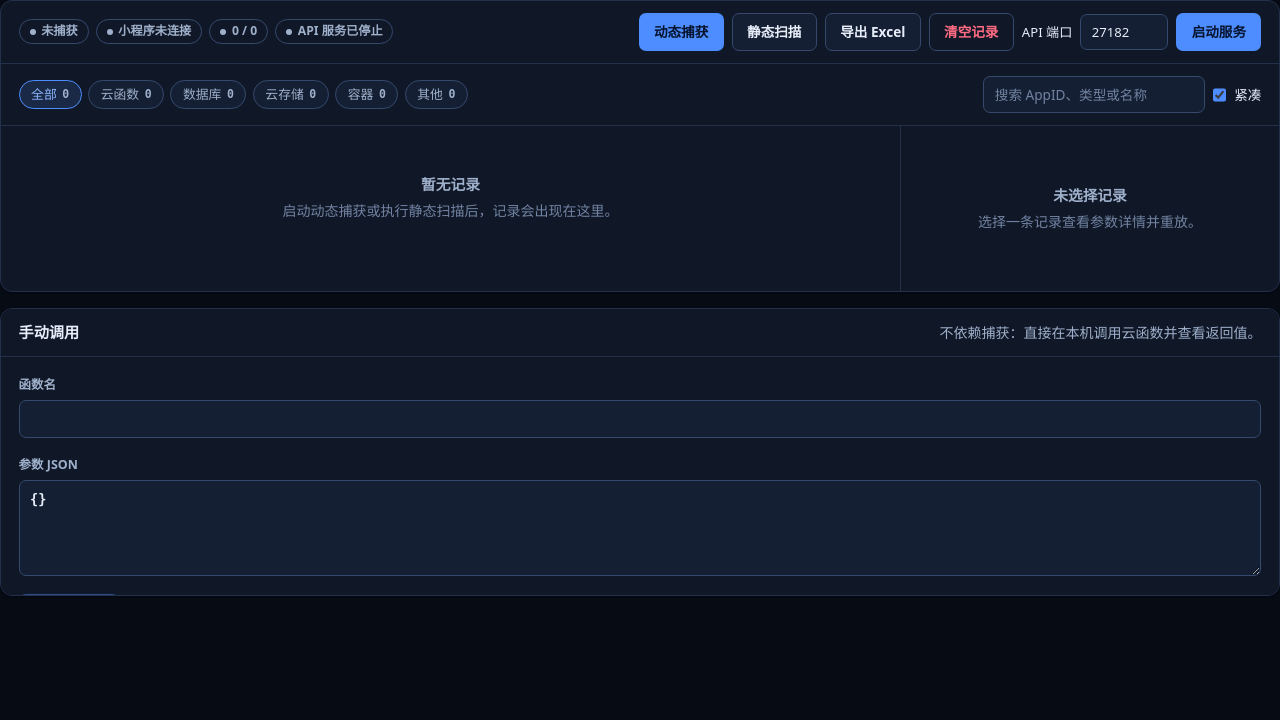
Test: CloudView › stops capture through the backend and reports the failure in place
The width and height of the screenshot is (1280, 720).
Click the button with test id "cloud-capture-toggle": (681, 32) [638,13,724,51]
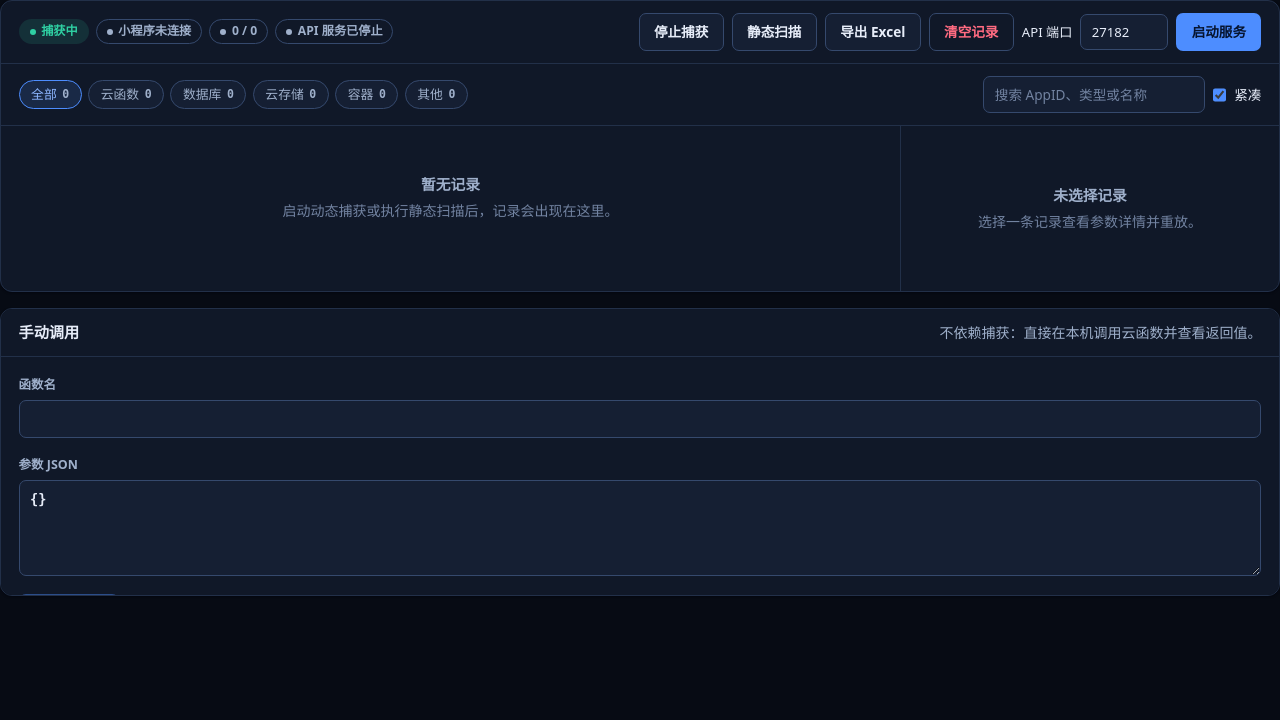
Click the button with test id "cloud-capture-toggle": (681, 32) [638,13,724,51]
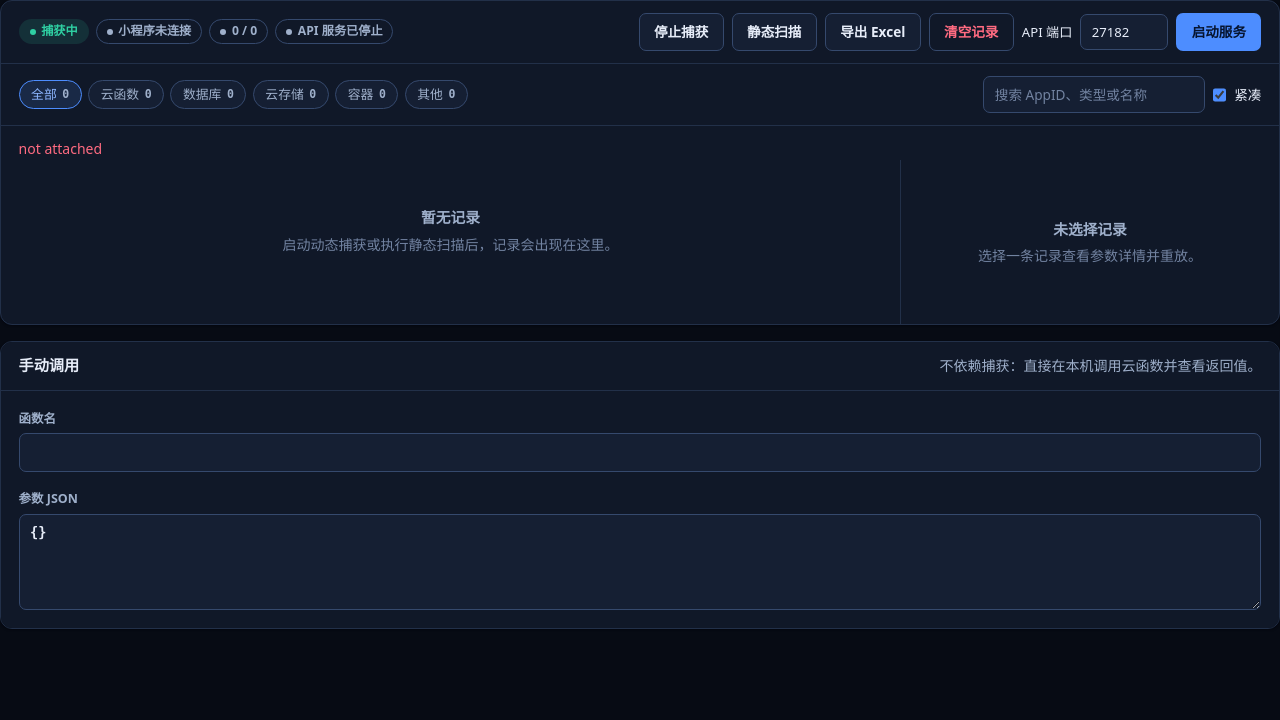
expect the message with test id "cloud-action-error" reads "not attached": met, box [19,139,102,158]
